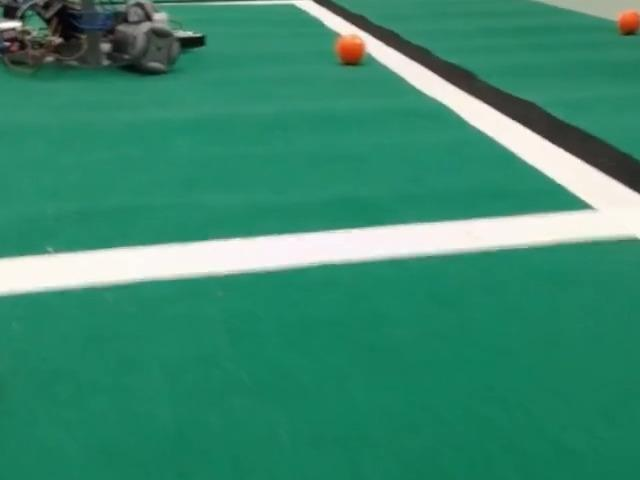Ball: (335, 34, 365, 65), (617, 10, 639, 35)
